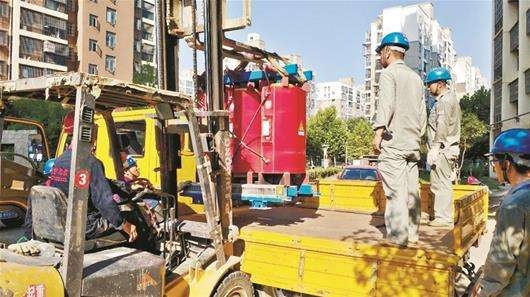blue: (487, 125, 530, 183), (373, 30, 410, 68), (421, 63, 453, 97), (119, 154, 141, 179)
